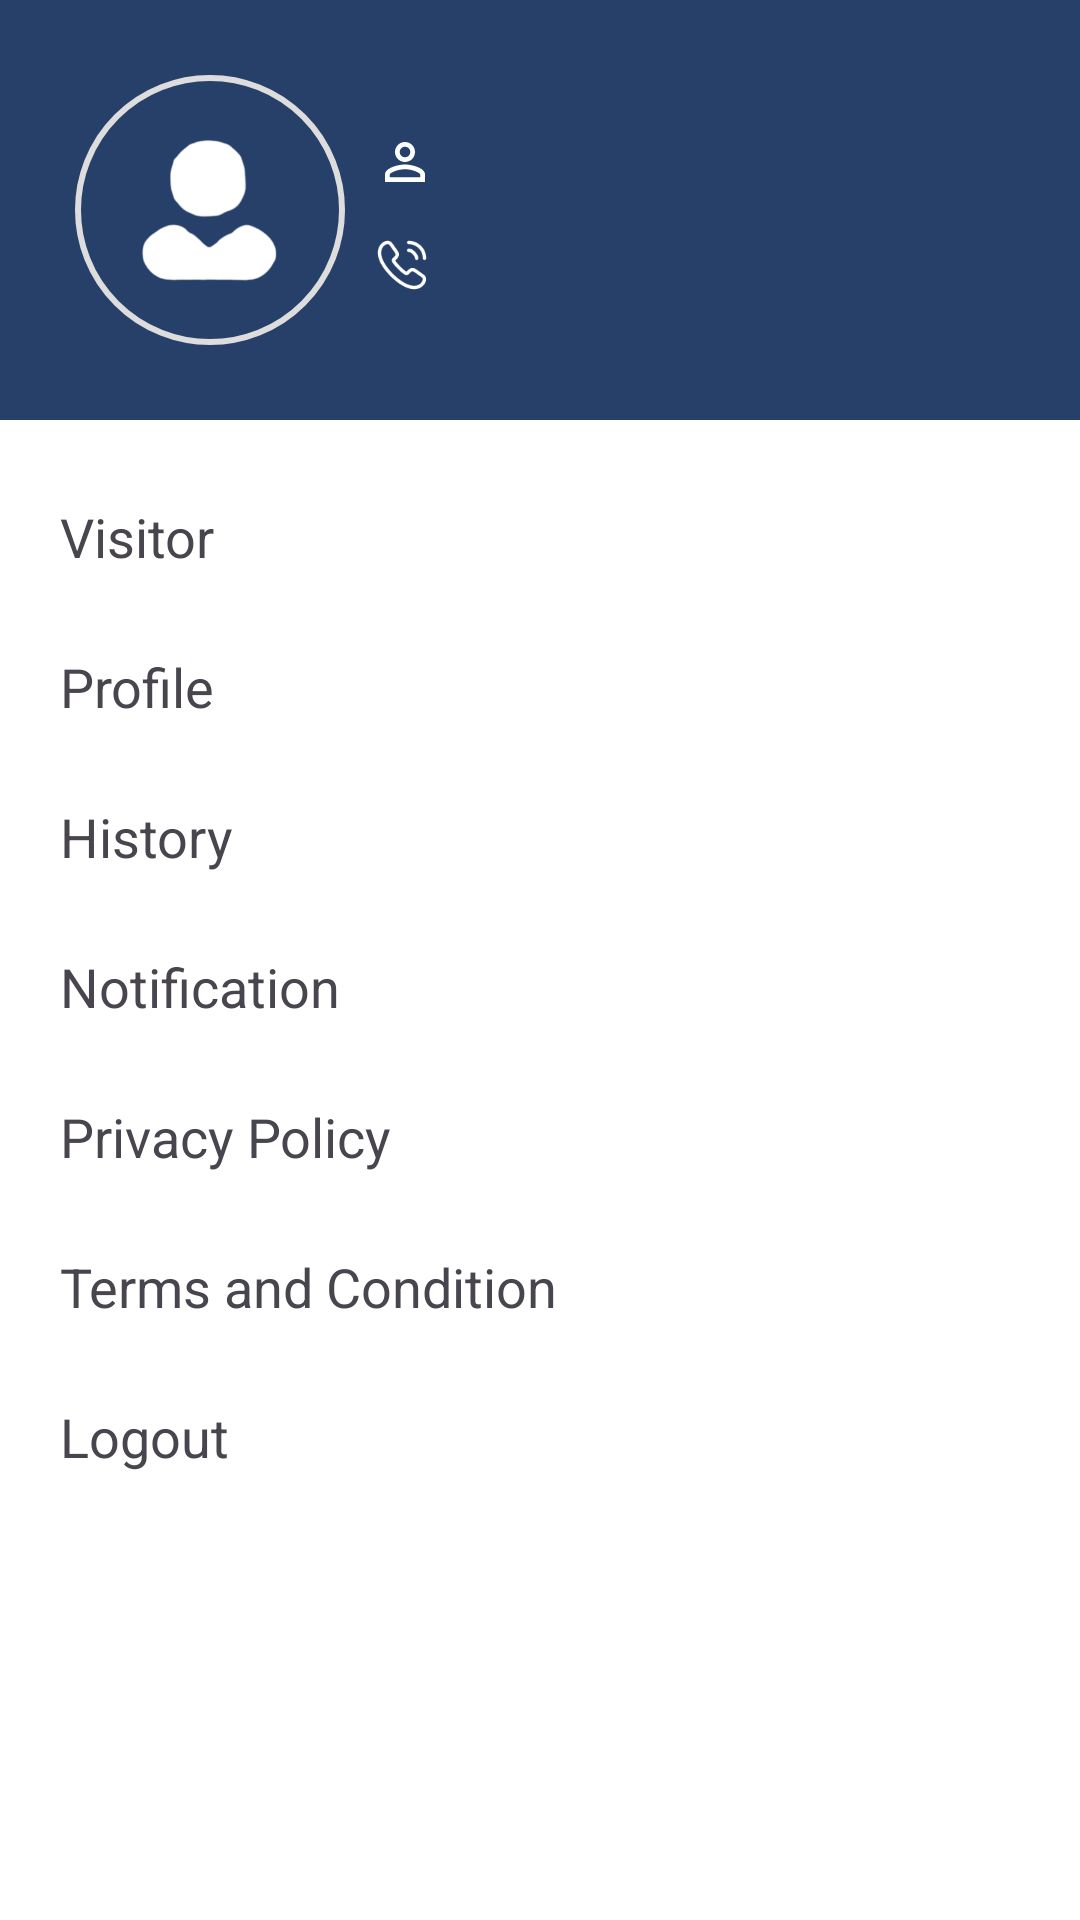

Icons on this 1080 x 1920 Android screen, each with the point to tap as (x=x, y=y):
call: (x=402, y=265)
user: (x=405, y=162)
